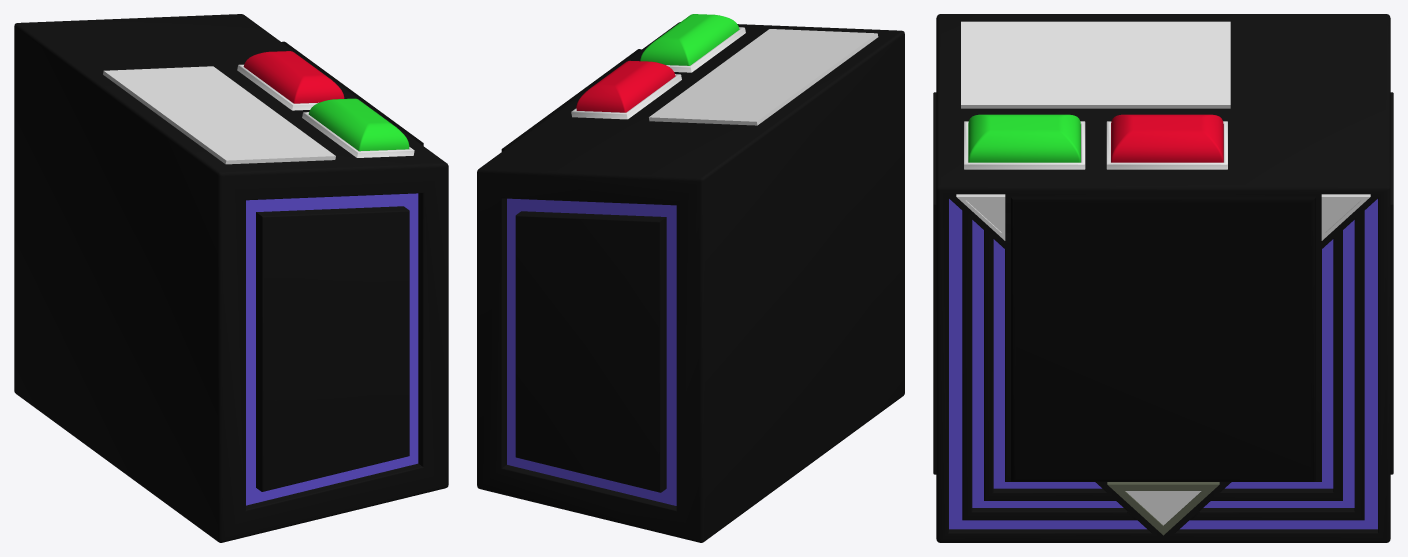
Rendered from Floor_Controller.fbx.
3 renders of one model, left to right at view 1: azimuth 30°, elevation 25°; view 2: azimuth 150°, elevation 25°; view 3: azimuth 270°, elevation 25°, orthographic. The views are drawn at different scales.
Parts seen in each view (by area): view 1: Cube, Cube.008, Cube.005, Cube.007, Cube.004, Cube.006, Cube.003; view 2: Cube, Cube.008, Cube.007, Cube.005, Cube.006, Cube.004, Cube.003; view 3: Cube, Cube.003, Cube.008, Cube.005, Cube.007, Cube.001, Cube.002, Cube.004, Cube.006.
Part boxes in pixels (x1,y1,x2,y2): Cube: [14, 14, 448, 542]; Cube.008: [103, 66, 335, 164]; Cube.005: [308, 98, 409, 151]; Cube.007: [243, 51, 344, 103]; Cube.004: [302, 112, 414, 157]; Cube.006: [237, 64, 318, 110]; Cube.003: [281, 41, 423, 145]; Cube: [477, 22, 904, 542]; Cube.008: [649, 29, 878, 125]; Cube.007: [576, 60, 675, 112]; Cube.005: [640, 14, 739, 65]; Cube.006: [571, 74, 681, 119]; Cube.004: [666, 27, 745, 72]; Cube.003: [501, 49, 641, 151]; Cube: [933, 14, 1393, 542]; Cube.003: [1011, 195, 1315, 481]; Cube.008: [961, 21, 1230, 108]; Cube.005: [968, 114, 1080, 162]; Cube.007: [1111, 114, 1223, 162]; Cube.001: [1107, 482, 1219, 535]; Cube.002: [956, 194, 1370, 240]; Cube.004: [964, 121, 1085, 169]; Cube.006: [1106, 121, 1227, 169].
Size of the model in its own units: 68.88 by 102 by 104.
